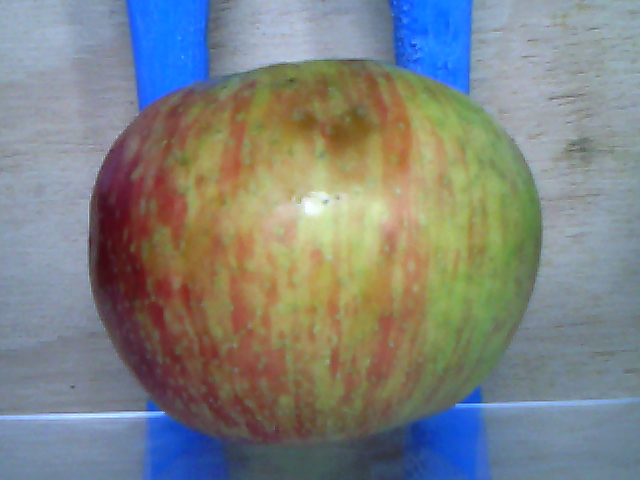bruise: (285, 103, 375, 157)
